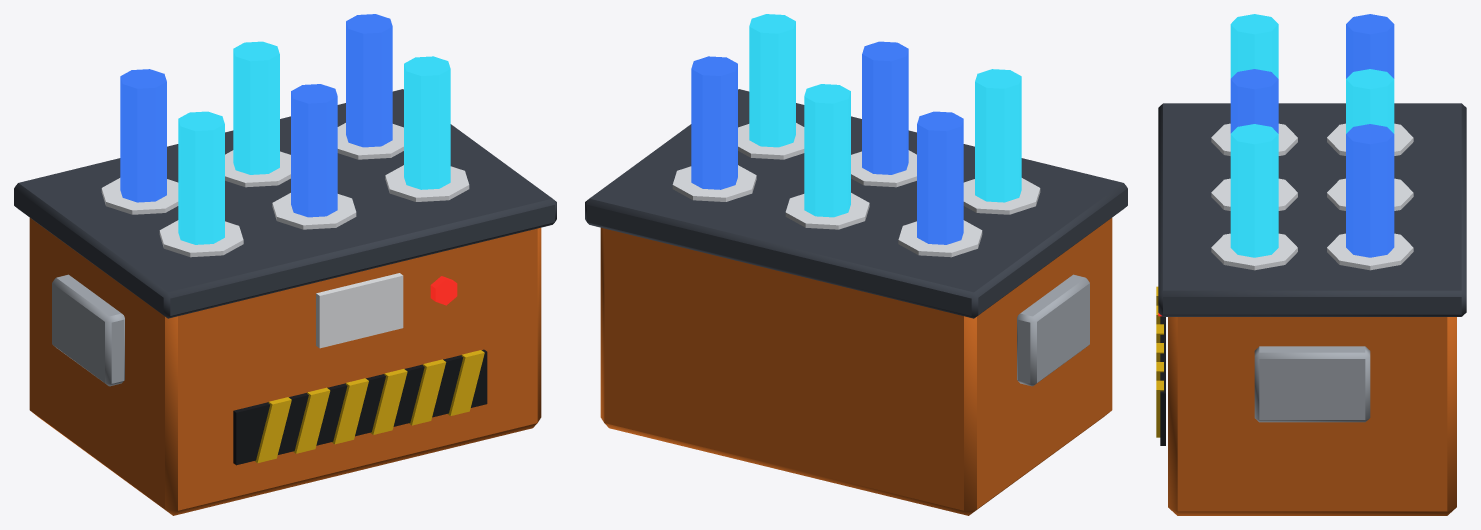
Rendered from capacitor_energy_cell_crate.glb.
The picture shows the model from 3 angles, left to right: view 1: azimuth 30°, elevation 25°; view 2: azimuth 150°, elevation 25°; view 3: azimuth 270°, elevation 25°; orthographic projection.
Visible parts, largest first — view 1: capacitor_energy_cell_crate; view 2: capacitor_energy_cell_crate; view 3: capacitor_energy_cell_crate.
Boxes of the visible parts, bbox=[...] form: capacitor_energy_cell_crate: bbox=[14, 14, 556, 515]; capacitor_energy_cell_crate: bbox=[585, 14, 1127, 515]; capacitor_energy_cell_crate: bbox=[1156, 14, 1466, 515].
Size of the model in its own units: 0.99 by 0.8 by 0.6438.
